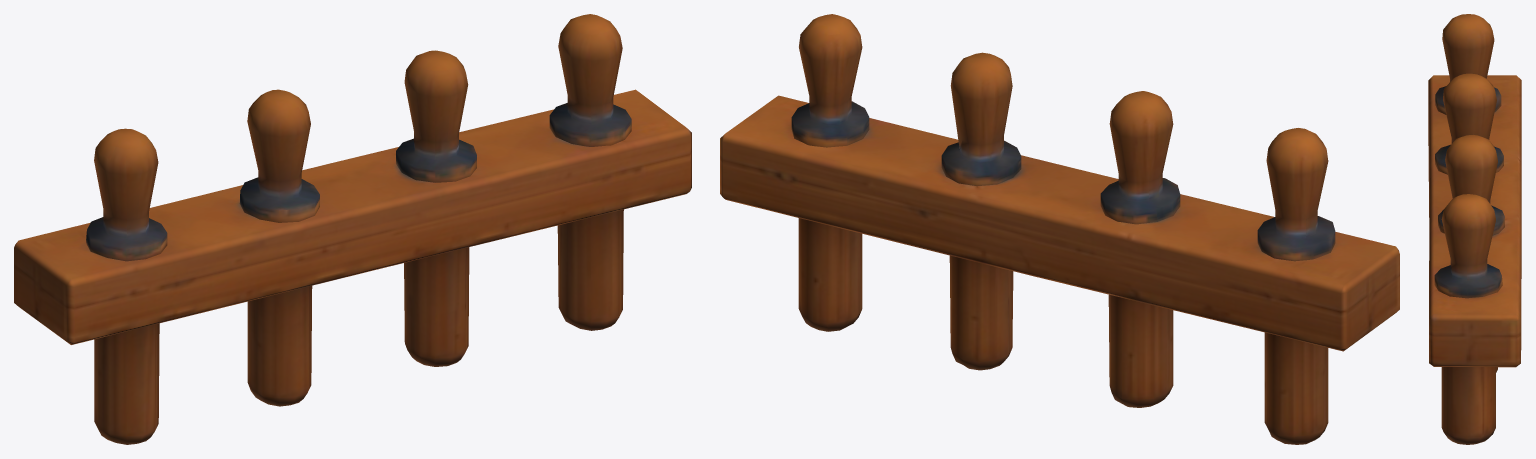
Rendered from belaying_rack.glb.
3 renders of one model, left to right at view 1: azimuth 30°, elevation 25°; view 2: azimuth 150°, elevation 25°; view 3: azimuth 270°, elevation 25°, orthographic. The views are drawn at different scales.
Parts seen in each view (by area): view 1: rack; view 2: rack; view 3: rack.
Boxes of the visible parts, x1,y1,x2,y2 form: rack: (14,14,691,444); rack: (720,14,1399,444); rack: (1428,14,1521,444).
Bounding box in the file's own units: 1.2 × 0.56 × 0.1947.
1 material, 1 textured.
